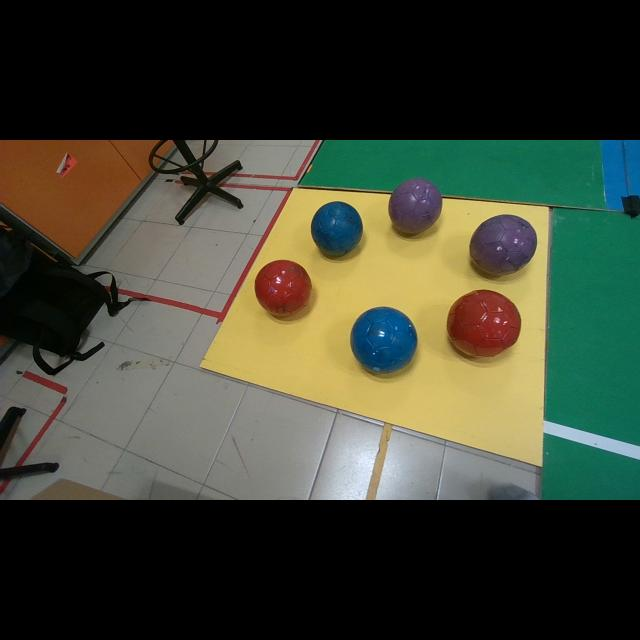B: (350, 306, 418, 373), (311, 201, 362, 256)
P: (470, 215, 538, 275), (389, 178, 442, 234)
R: (449, 290, 521, 356), (255, 260, 311, 316)
